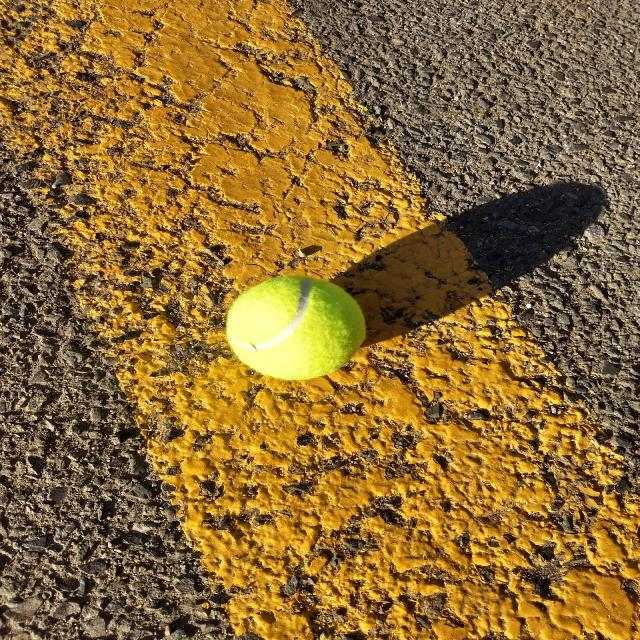Tennis-Ball: (227, 273, 369, 382)
